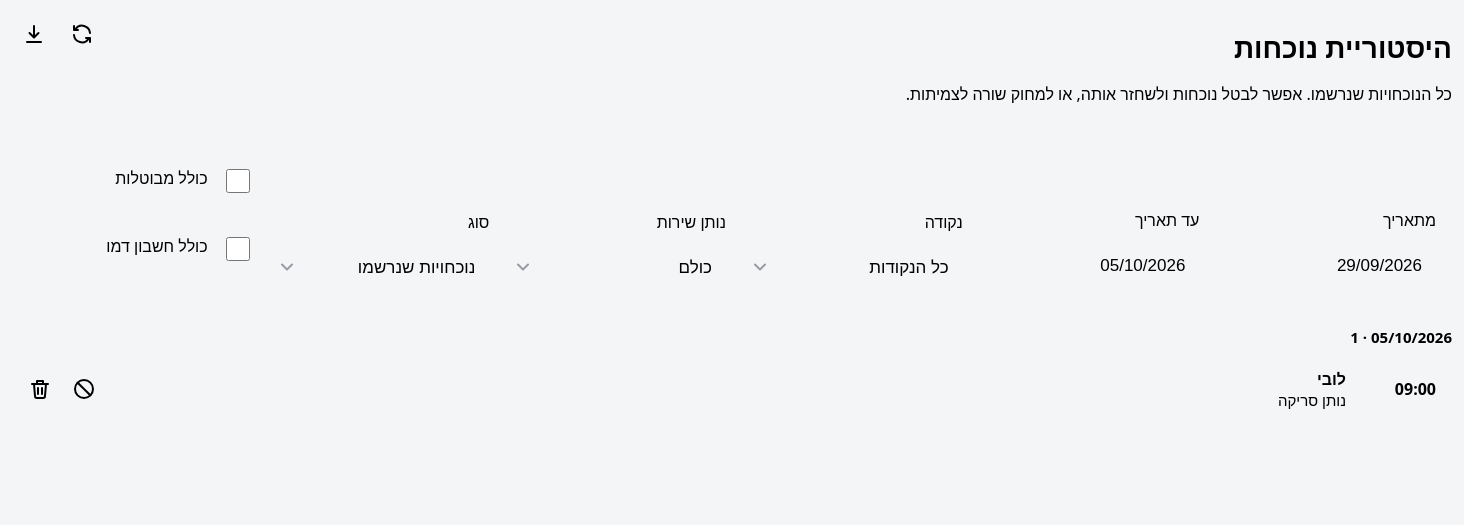
it: a row of a visit that was not counted › shows the phone's time for a visit that came online only when its minute is not the server's
Expected: the text "נותן סריקה" is shown, [1278, 390, 1346, 410]
Step 1. Select "לא נקלטו" in the dropdown labelled "סוג" → (377, 267), box [265, 241, 489, 293]
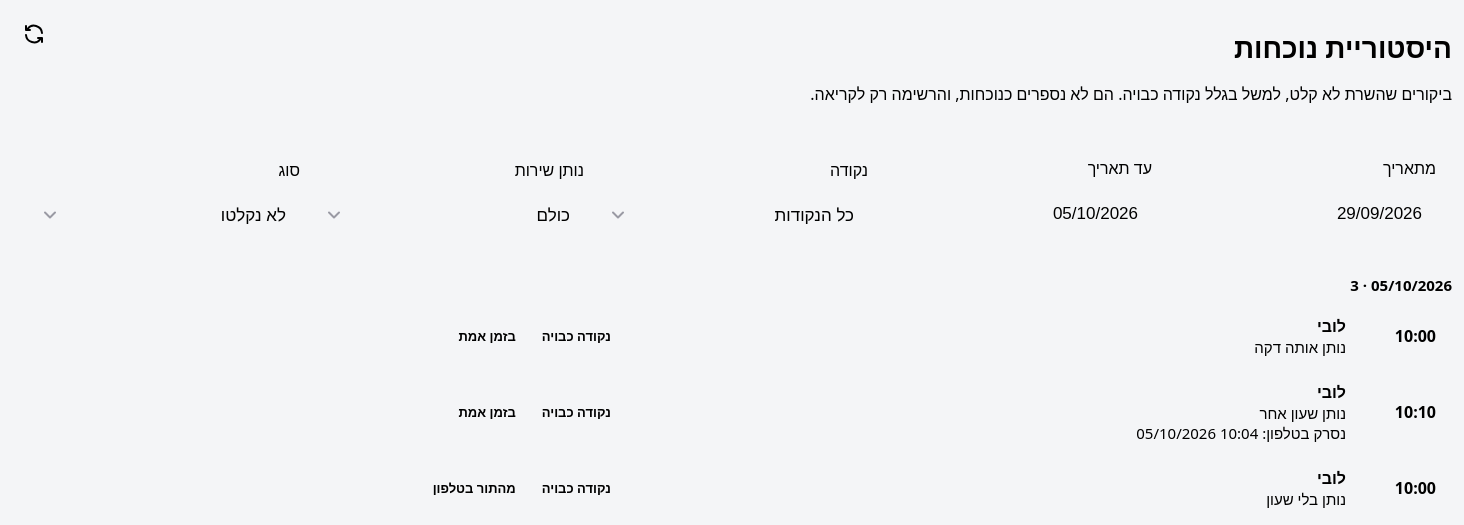
Expected: the text "05/10/2026 10:04" is shown, [1136, 423, 1258, 443]
